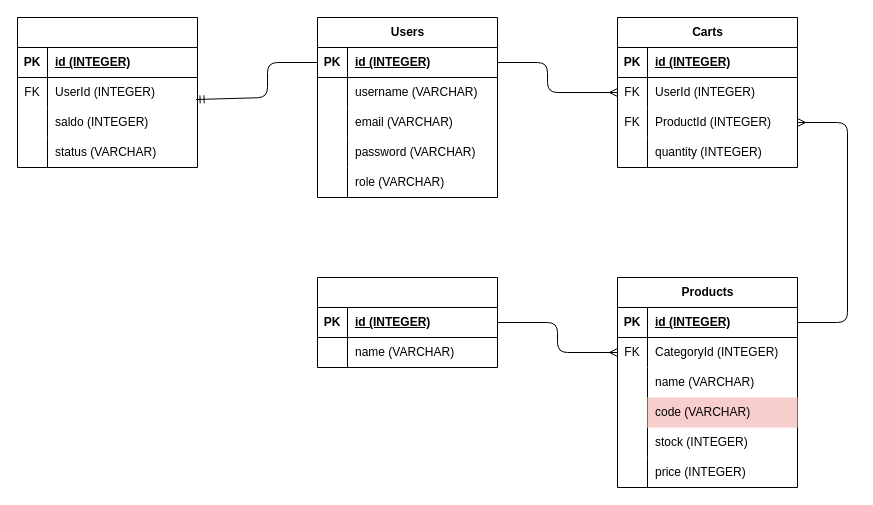
The diagram is 873 pixels wide and 505 high, and some of its shapes have lost their labels. The box of each missing label's shape, as (x1, y1, x2, y2) in pixels:
Categories: (316, 276, 498, 368)
EWalets: (16, 16, 198, 168)
